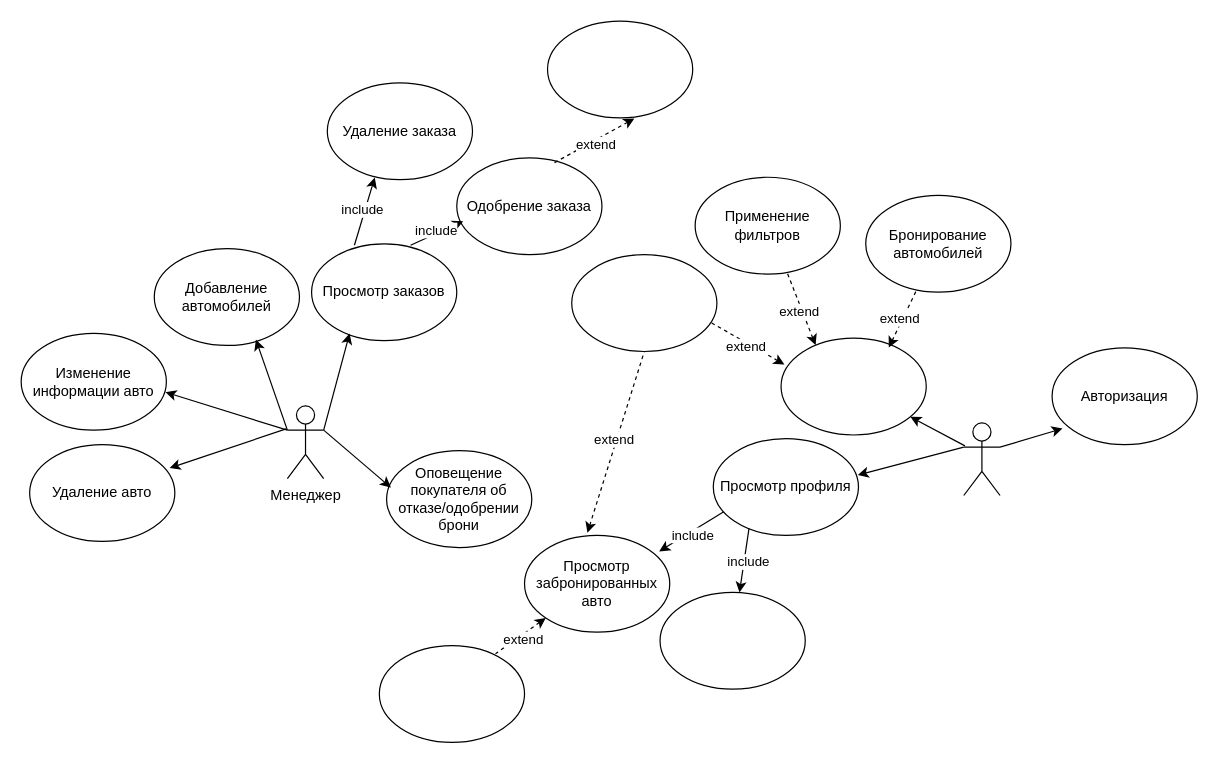
This 1218x764 diagram has some shape labels left out. The shapes that lost their labels are listed below. From the top down, each one's centre as x and y in pixels, then its label:
At (619,69): "Применение поиска заказов".
At (644,302): "Применение поиска авто".
At (853,386): "Просмотр каталога".
At (981,458): "Покупатель".
At (732,640): "Просмотр личной информации".
At (451,693): "Отмена брони автомобиля".
